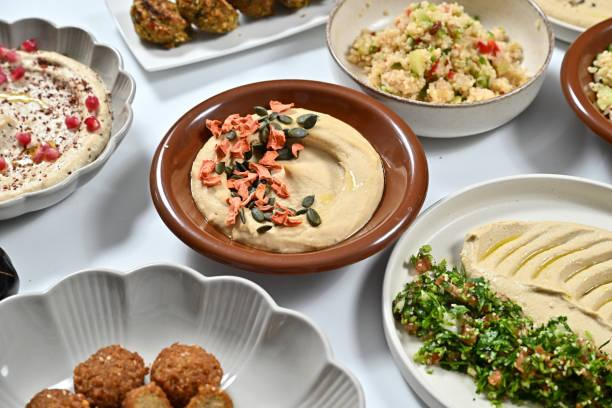Braised Crucian Carp: (145, 76, 432, 274), (327, 0, 549, 137)
